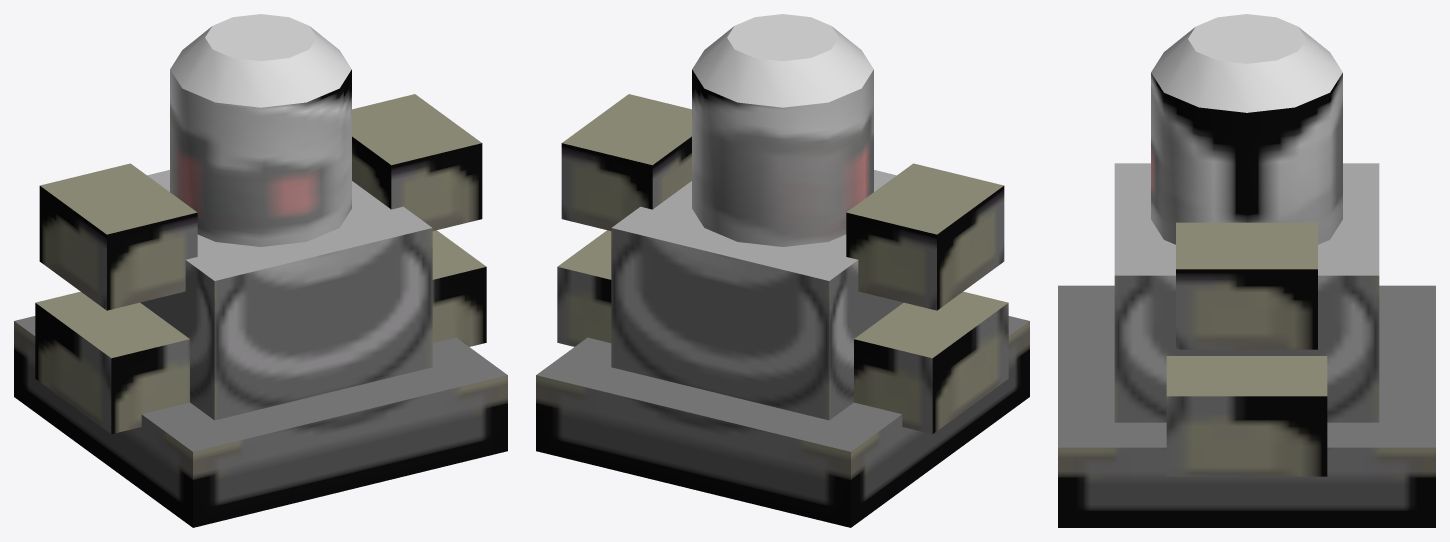
The model's file is Building_ShardInhibitor.obj.
The picture shows the model from 3 angles, left to right: view 1: azimuth 30°, elevation 25°; view 2: azimuth 150°, elevation 25°; view 3: azimuth 270°, elevation 25°; orthographic projection. The views are drawn at different scales.
Parts seen in each view (by area): view 1: Body; view 2: Body; view 3: Body.
Boxes of the visible parts, x1,y1,x2,y2 form: Body: (14, 14, 507, 527); Body: (536, 14, 1029, 527); Body: (1058, 14, 1435, 527).
Size of the model in its own units: 0.9688 by 0.9531 by 0.8.
1 material, 1 textured.
